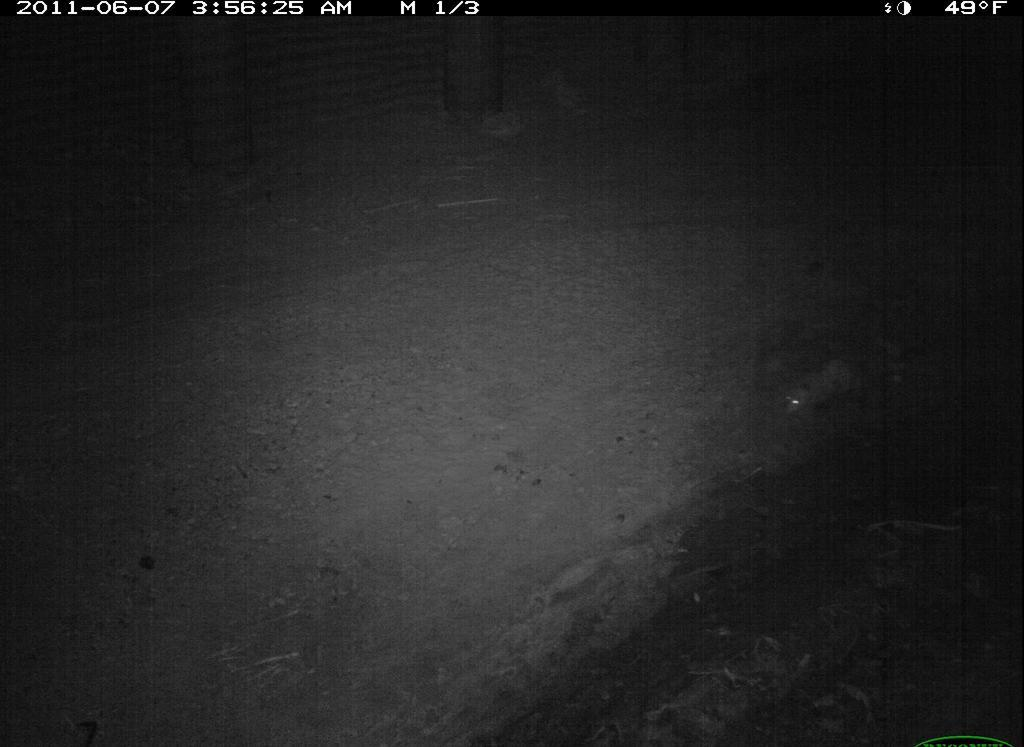opossum: (771, 345, 885, 433)
